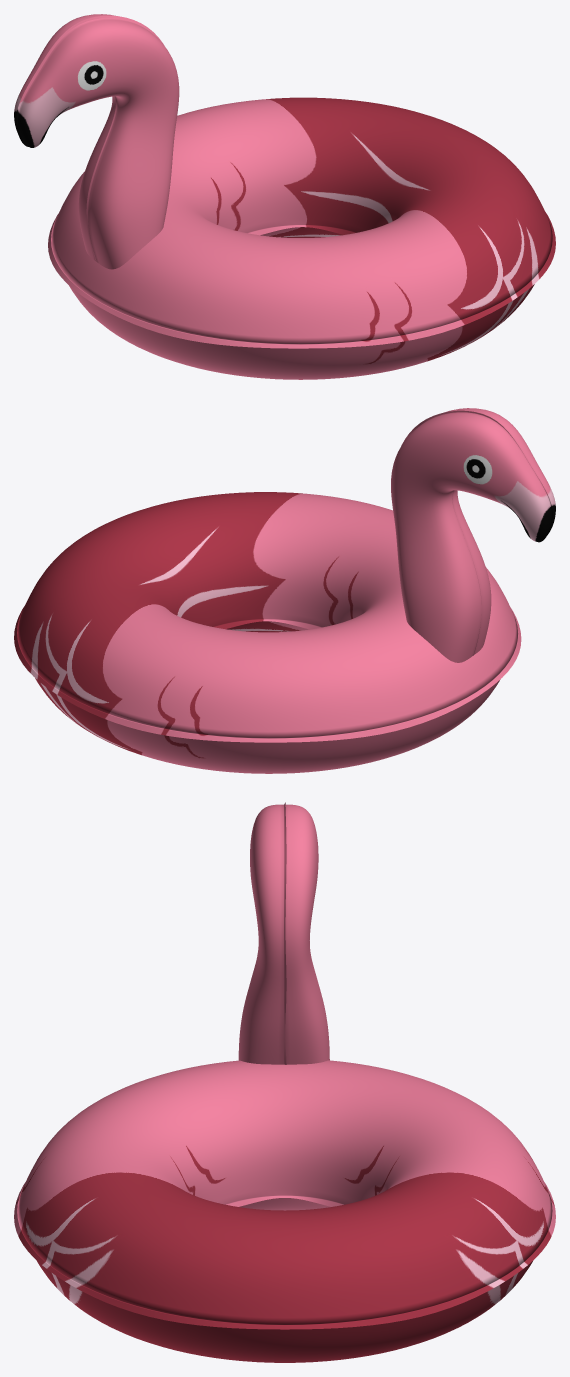
The model's file is flamingo.obj.
3 renders of one model, top to bottom at view 1: azimuth 30°, elevation 25°; view 2: azimuth 150°, elevation 25°; view 3: azimuth 270°, elevation 25°, orthographic. The views are drawn at different scales.
Parts seen in each view (by area): view 1: flamingo; view 2: flamingo; view 3: flamingo.
Part boxes in pixels (left/top/right/bottom): flamingo: left=14, top=14, right=555, bottom=379; flamingo: left=14, top=408, right=555, bottom=773; flamingo: left=14, top=802, right=555, bottom=1362.
Size of the model in its own units: 1.79 by 1.13 by 1.54.
